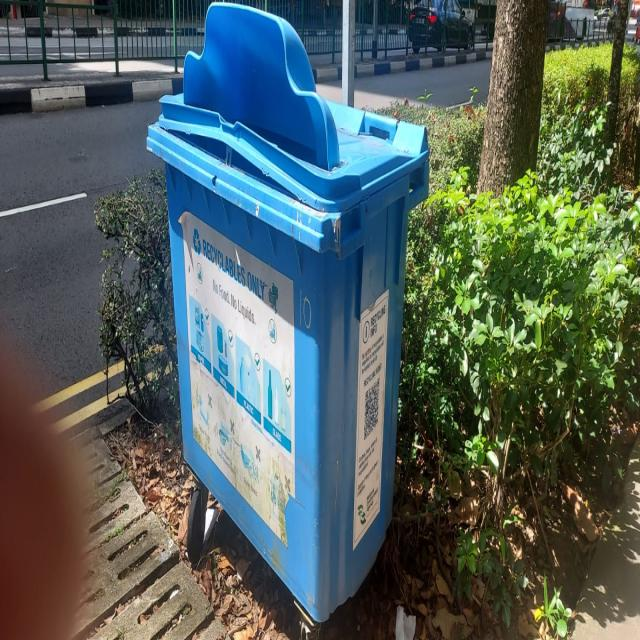bin_empty: (134, 9, 406, 622)
